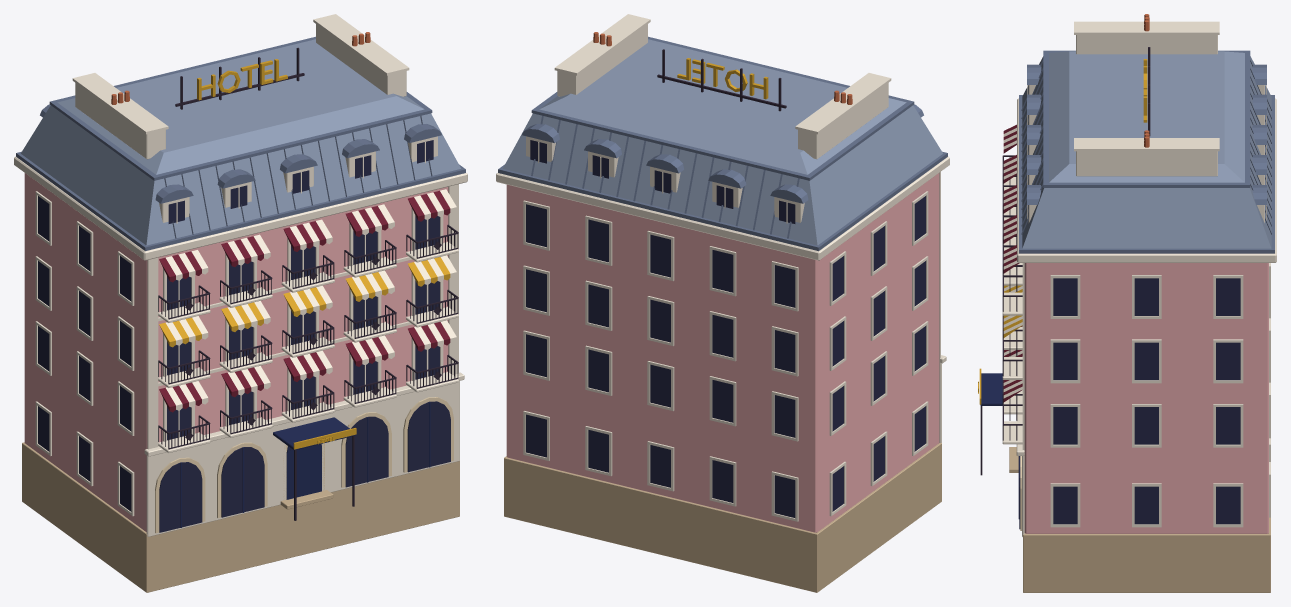
Rendered from hotel.glb.
3 views of the same model, side by side, from view 1: azimuth 30°, elevation 25°; view 2: azimuth 150°, elevation 25°; view 3: azimuth 270°, elevation 25° (orthographic).
Visible parts, largest first — view 1: hotel; view 2: hotel; view 3: hotel.
Part boxes in pixels (x1,y1,x2,y2): hotel: [14, 14, 467, 592]; hotel: [496, 14, 949, 592]; hotel: [978, 14, 1276, 592].
Size of the model in its own units: 16.7 by 21.95 by 13.45.
